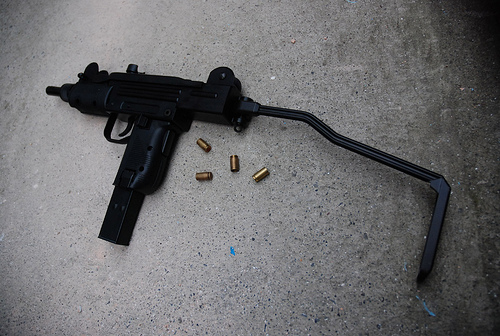rifle: (47, 42, 456, 300)
